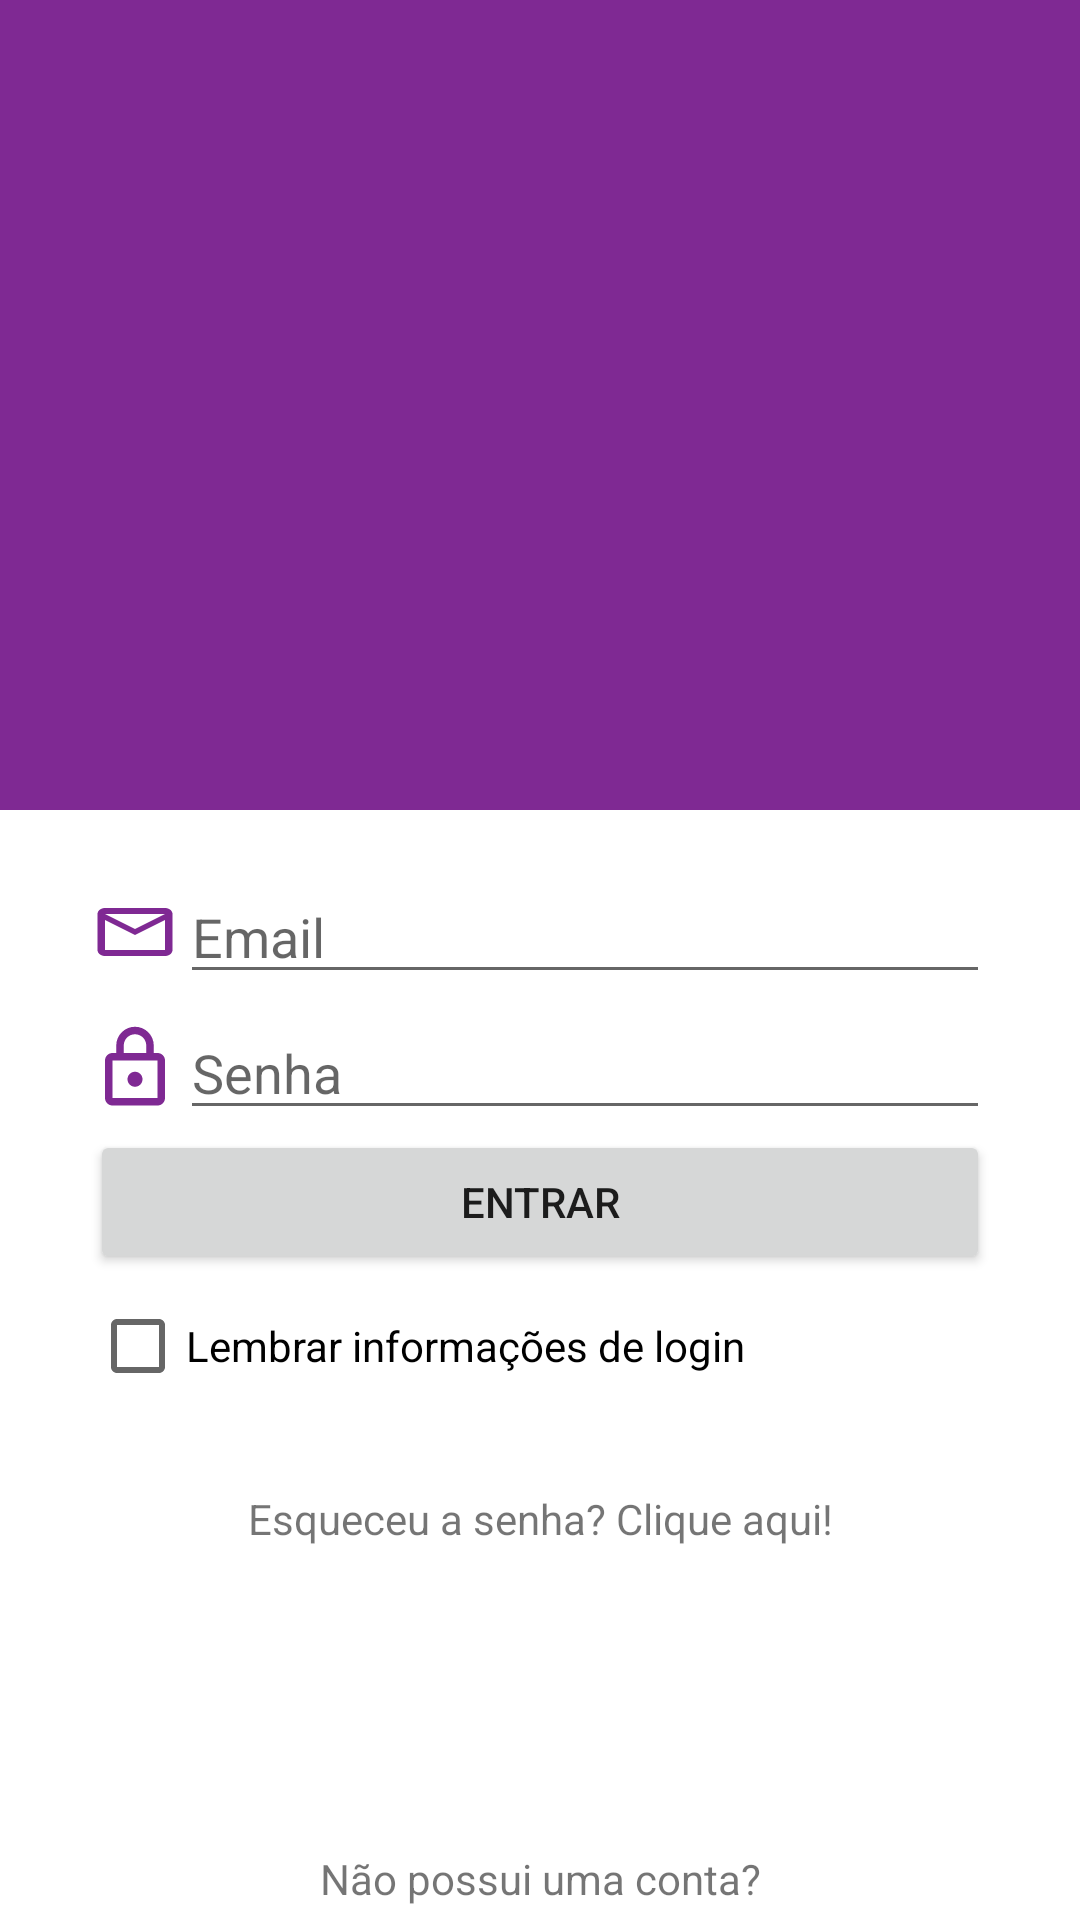

Icon click points for this 1080x1920 phone screenshot, format (x=x, y=y):
password: (x=135, y=1066)
